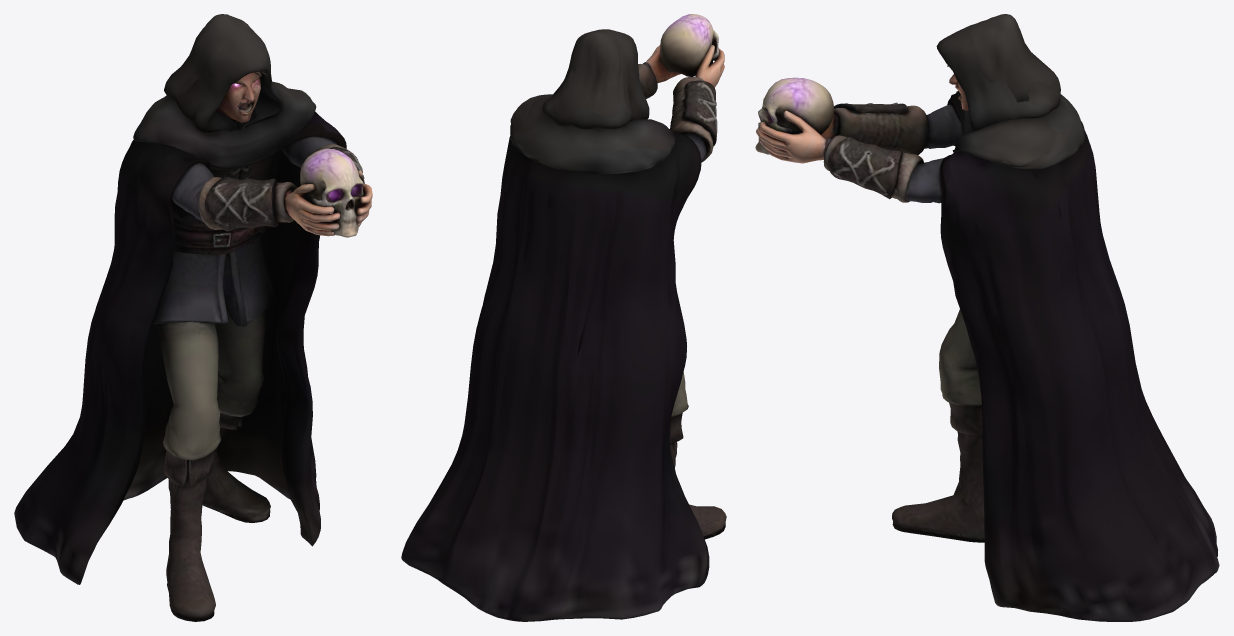
Rendered from MZ4250 - Warlock Male_1 2025.glb.
3 renders of one model, left to right at view 1: azimuth 30°, elevation 25°; view 2: azimuth 150°, elevation 25°; view 3: azimuth 270°, elevation 25°, orthographic. The views are drawn at different scales.
Parts seen in each view (by area): view 1: ArmorSkull.003; view 2: ArmorSkull.003; view 3: ArmorSkull.003.
Boxes of the visible parts, x1,y1,x2,y2 form: ArmorSkull.003: [14, 14, 372, 621]; ArmorSkull.003: [401, 14, 726, 621]; ArmorSkull.003: [755, 14, 1219, 621].
Bounding box in the file's own units: 43.96 × 85.47 × 64.86.
Materials: 3 (3 with a texture image).
